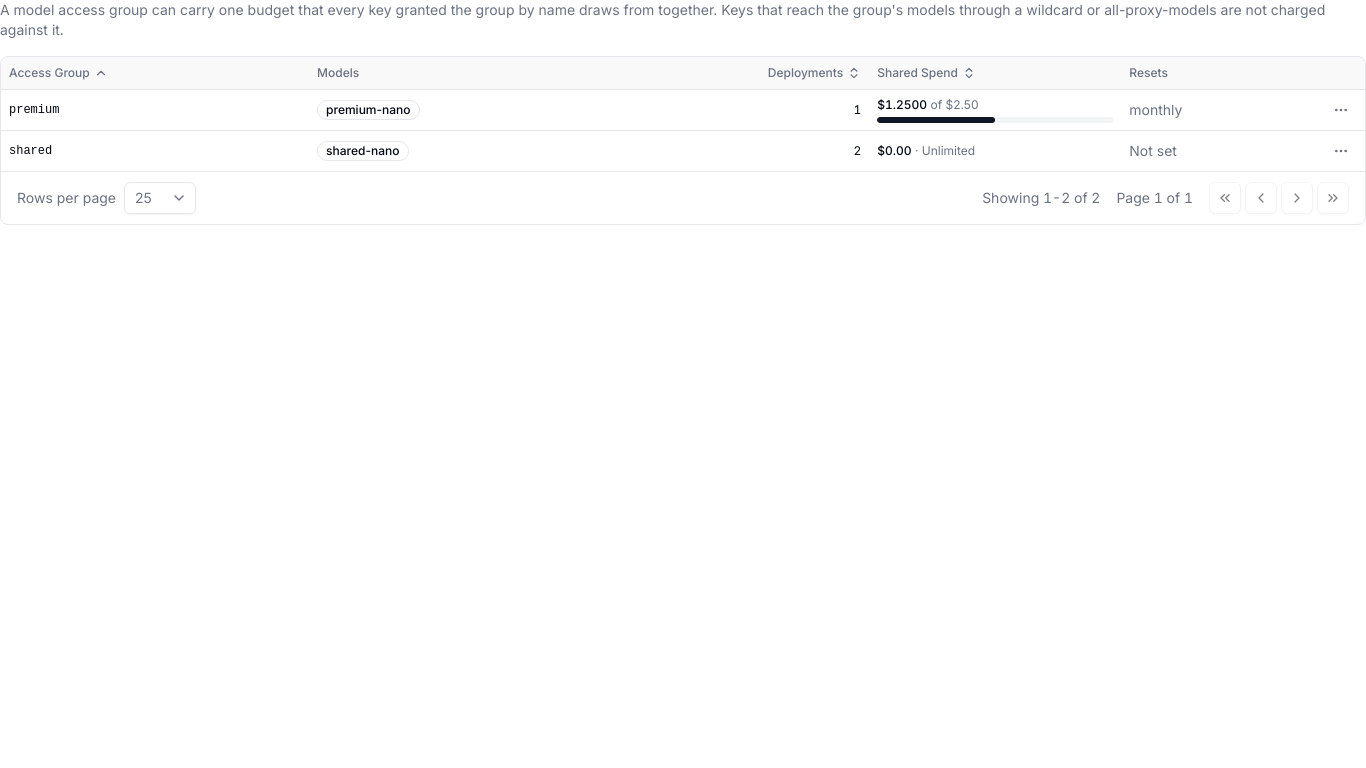
Test: AccessGroupBudgetsPanel › refuses to save a budget with every field blank
Click the button named "Open budget actions for shared". click: (1341, 150)
box: [1325,134,1357,166]
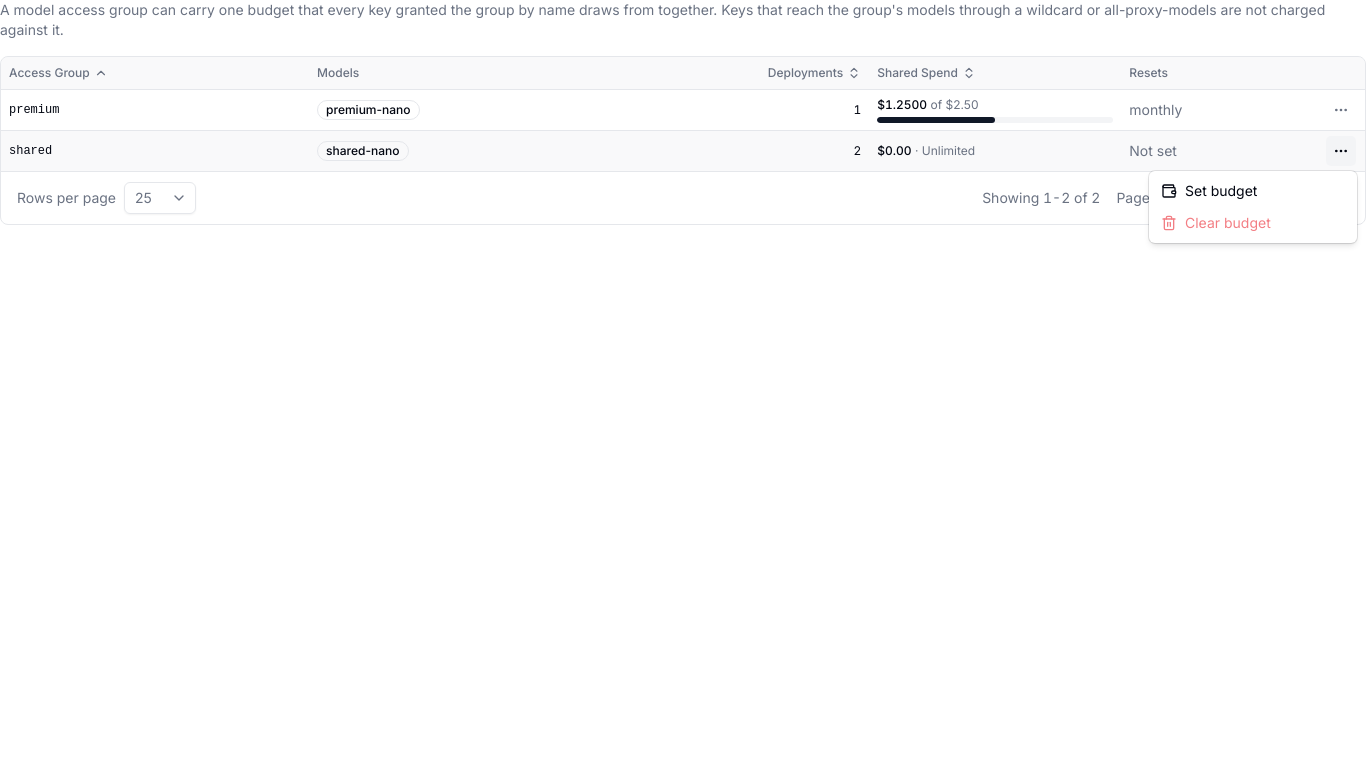
Click the menu item "Set budget". click: (1209, 190)
box: [1161,182,1257,199]
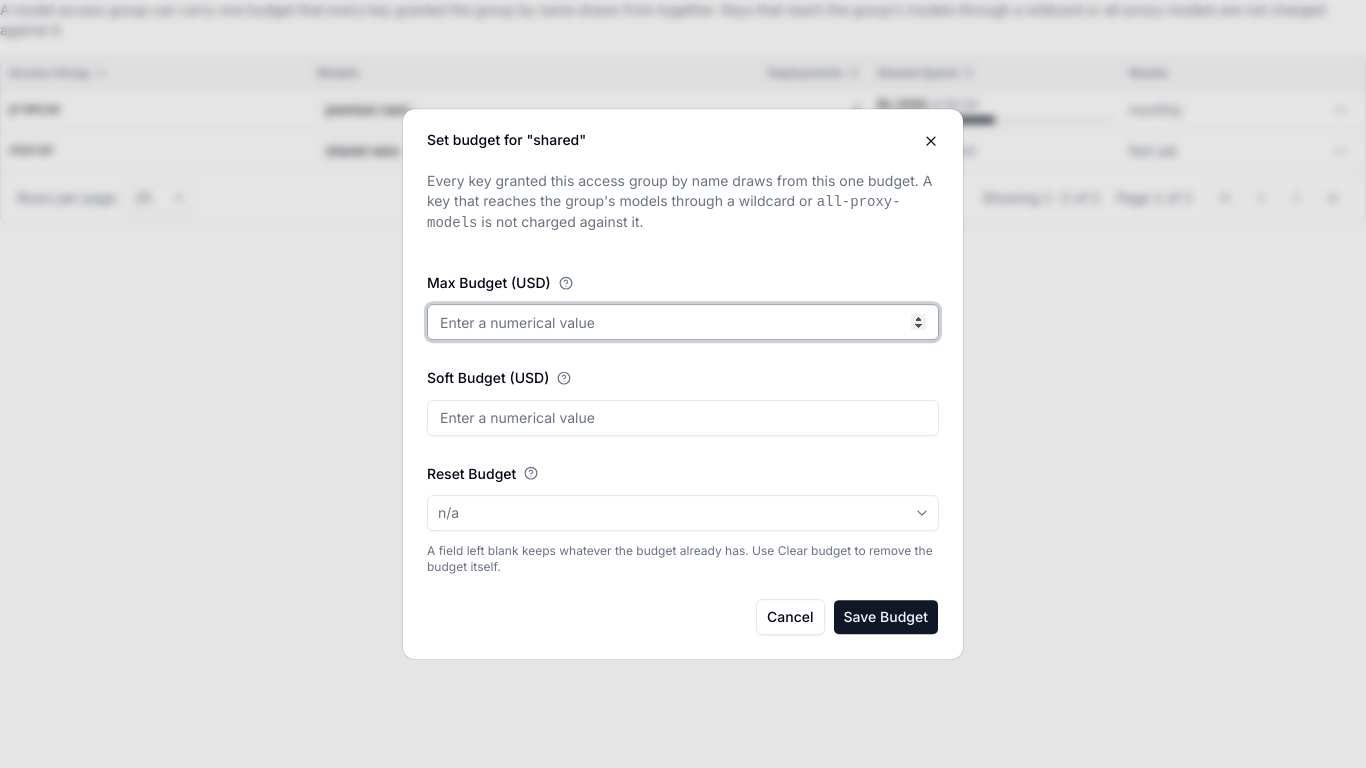
Click the button "Save Budget". click: (886, 617)
box: [832,599,939,635]
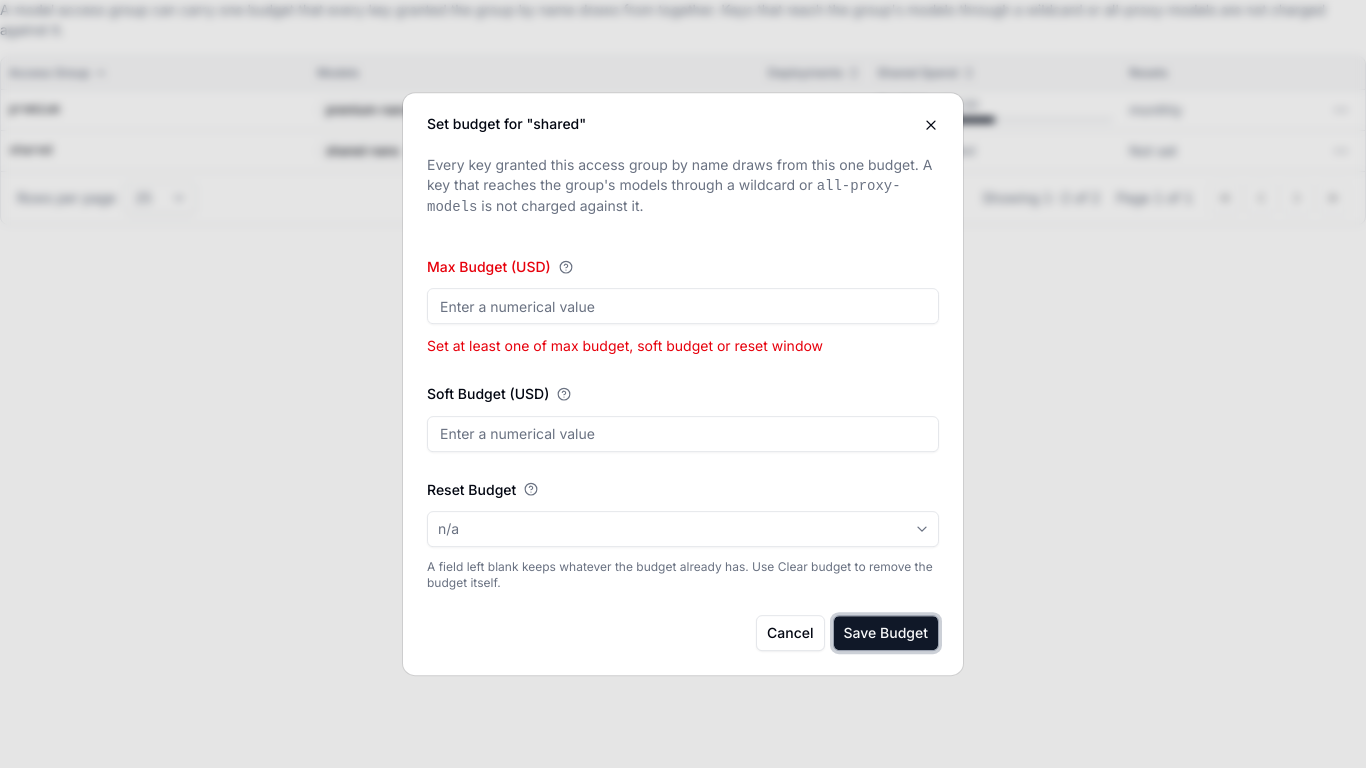
Expected: the text "Set at least one of max budget, soft budget or reset window" is shown, [427,337,823,354]
